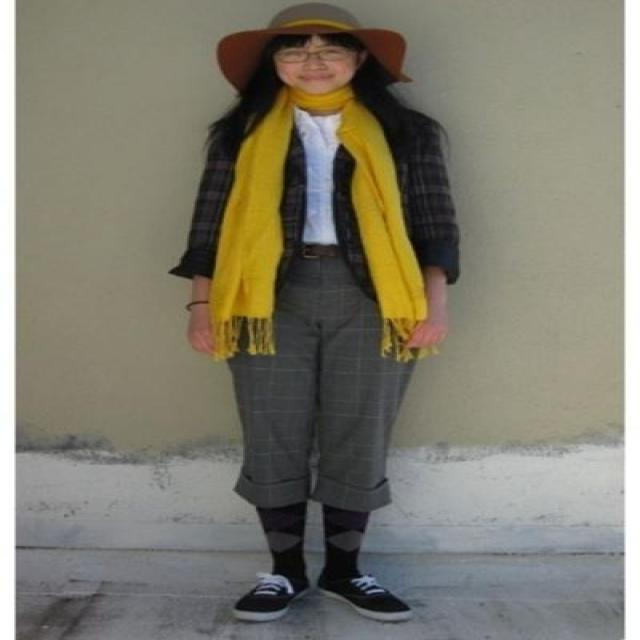hat: (218, 0, 402, 89)
jacket: (168, 122, 459, 300)
pants: (226, 258, 414, 523)
shirt: (296, 115, 339, 244)
shoe: (235, 576, 402, 611)
